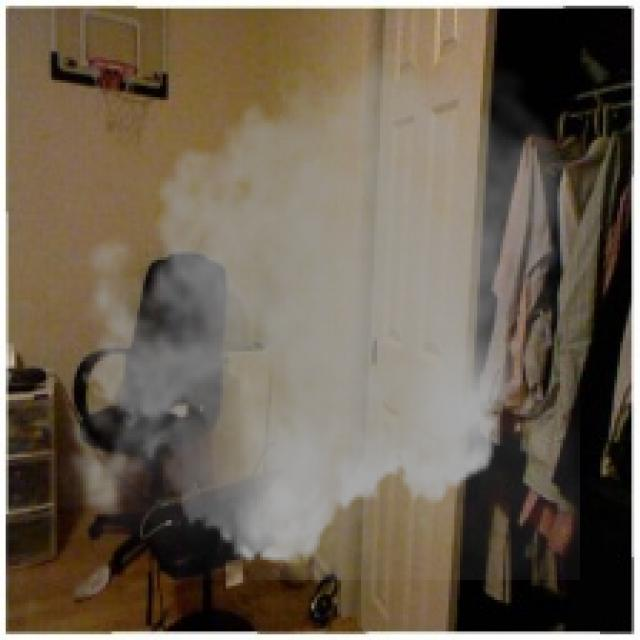smoke: (51, 26, 580, 580)
